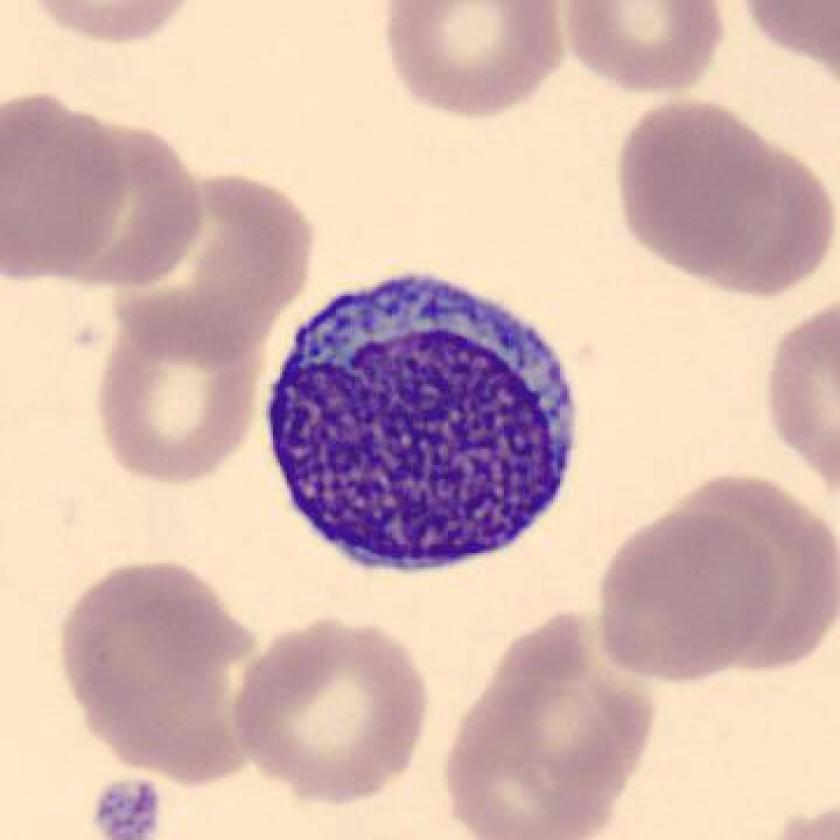monocyte: (246, 251, 594, 593)
